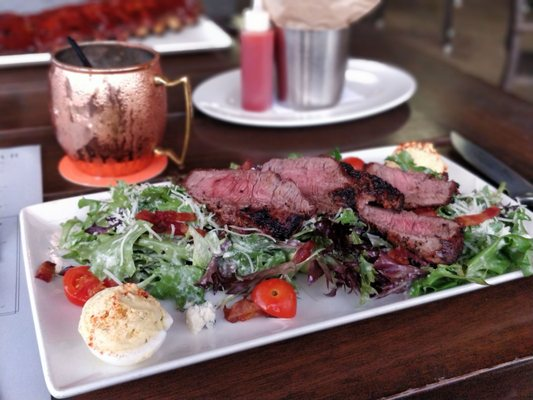pizza: (49, 39, 191, 183), (277, 24, 351, 110)
sandwich: (449, 129, 533, 200)
